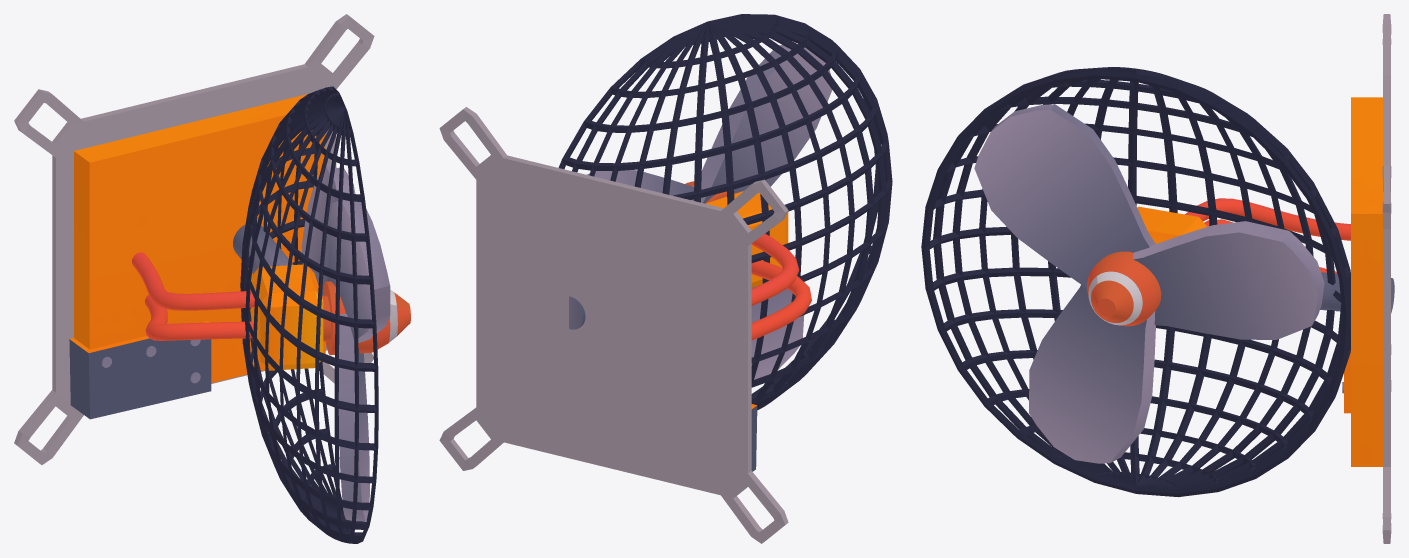
Rendered from fan.glb.
3 renders of one model, left to right at view 1: azimuth 30°, elevation 25°; view 2: azimuth 150°, elevation 25°; view 3: azimuth 270°, elevation 25°, orthographic. The views are drawn at different scales.
Parts seen in each view (by area): view 1: FanPlate, FanFan; view 2: FanPlate, FanFan; view 3: FanPlate, FanFan.
Boxes of the visible parts, x1,y1,x2,y2 form: FanPlate: (14,14,378,543); FanFan: (301,166,410,521); FanPlate: (439,14,892,543); FanFan: (587,44,832,379); FanPlate: (921,14,1394,543); FanFan: (974,104,1324,463).
Bounding box in the file's own units: 0.2379 × 0.2647 × 0.27.
Materials: 2 (2 with a texture image).
